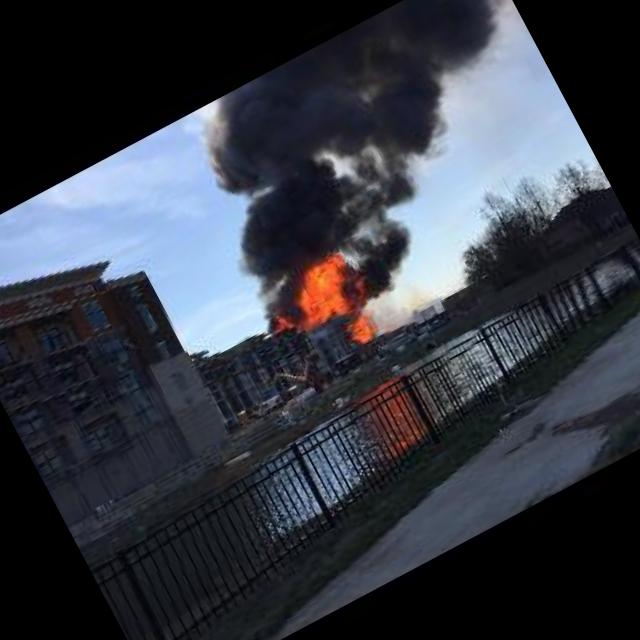fire: (248, 241, 392, 377)
smoke: (160, 0, 569, 319), (326, 222, 432, 312)
